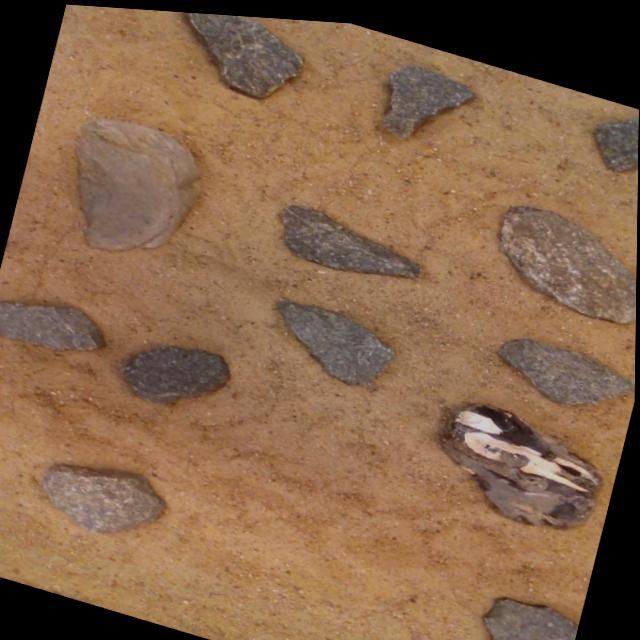rock: (444, 397, 603, 521), (77, 116, 201, 248), (502, 198, 637, 314), (282, 201, 422, 272), (185, 10, 303, 94), (279, 296, 395, 379), (500, 330, 636, 395), (44, 462, 167, 531), (383, 60, 475, 132), (122, 343, 231, 400), (0, 302, 105, 348), (487, 590, 580, 640), (596, 108, 639, 161)
